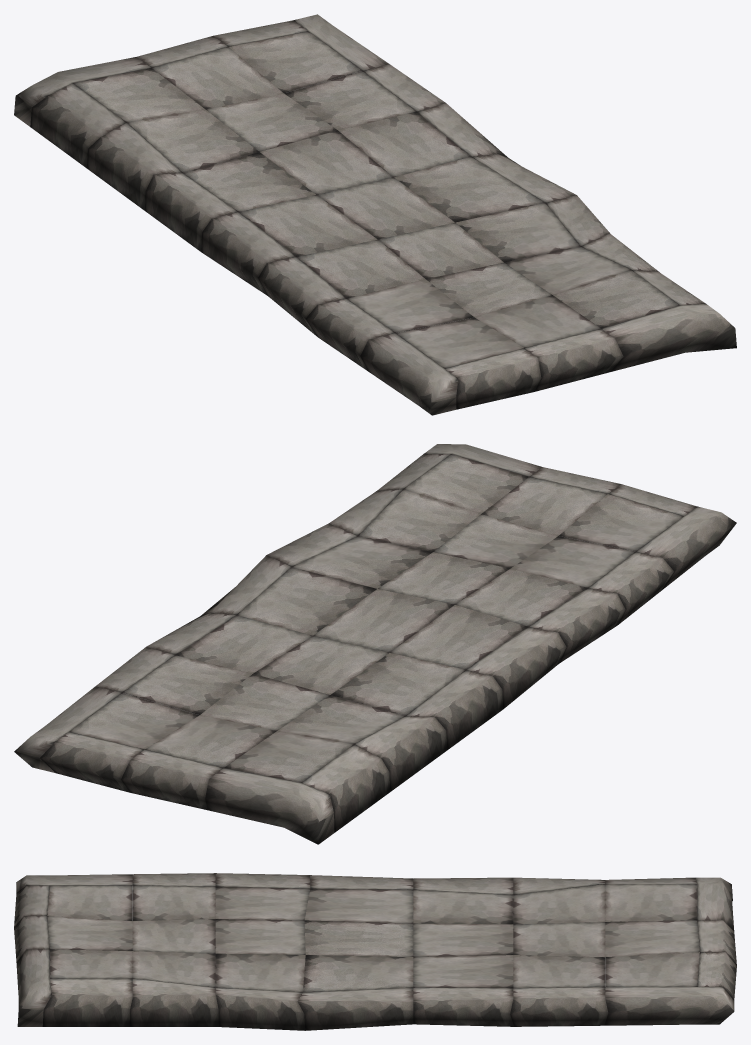
File: rock_slab_10m.DAE
The picture shows the model from 3 angles, top to bottom: view 1: azimuth 30°, elevation 25°; view 2: azimuth 150°, elevation 25°; view 3: azimuth 270°, elevation 25°; orthographic projection. The views are drawn at different scales.
Parts seen in each view (by area): view 1: Box01; view 2: Box01; view 3: Box01.
Boxes of the visible parts, x1,y1,x2,y2 form: Box01: [14, 14, 736, 415]; Box01: [14, 444, 736, 844]; Box01: [14, 873, 736, 1030].
Bounding box in the file's own units: 7.15 × 0.8055 × 16.22.
